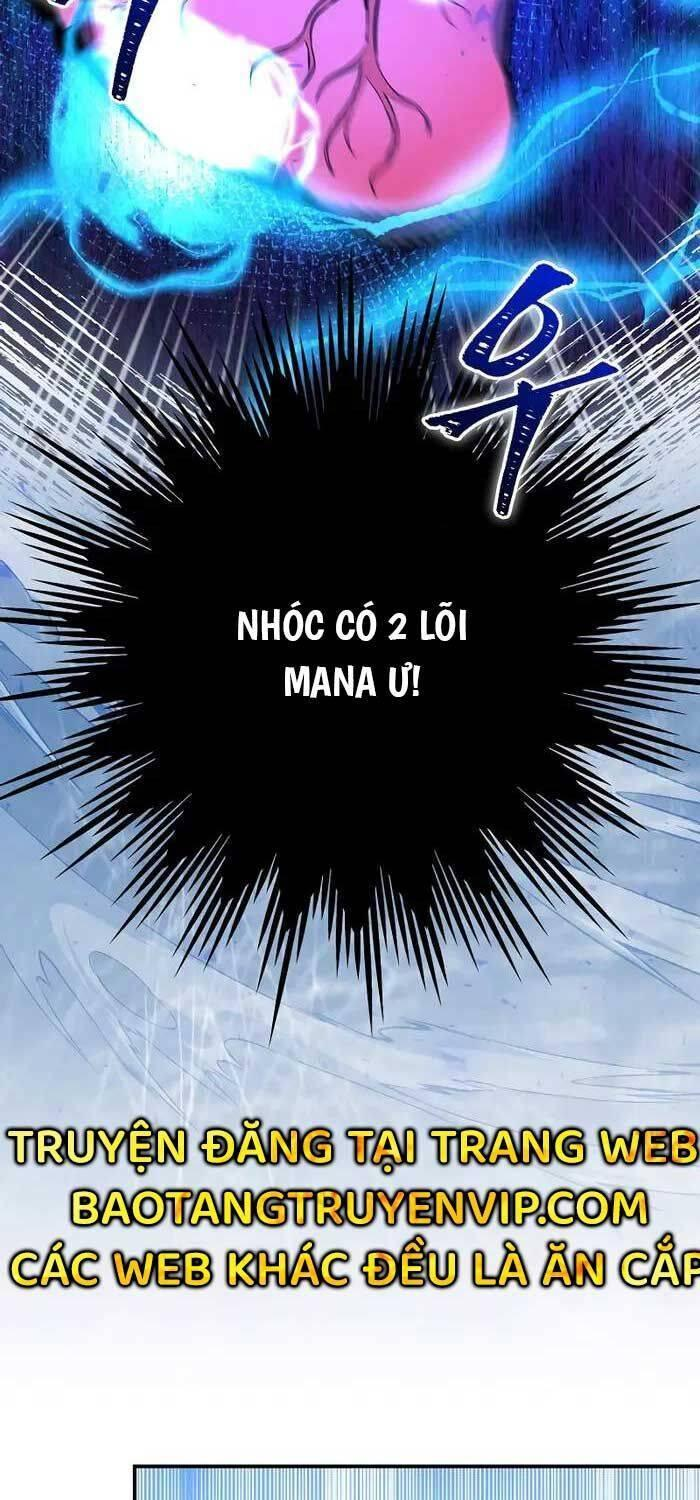quangcao: (0, 1110, 700, 1312)
